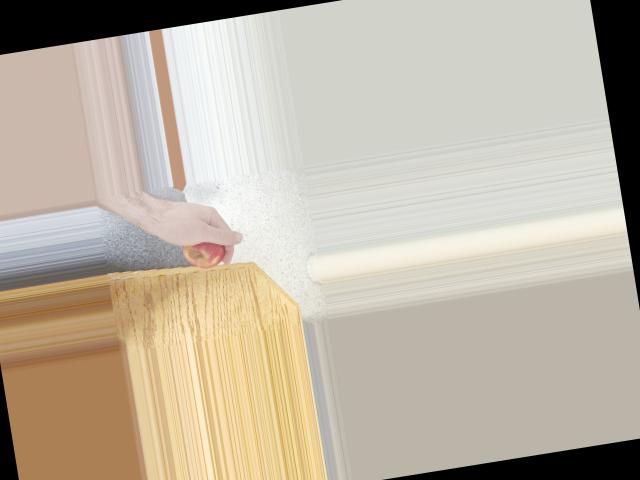apple: (173, 218, 229, 275)
